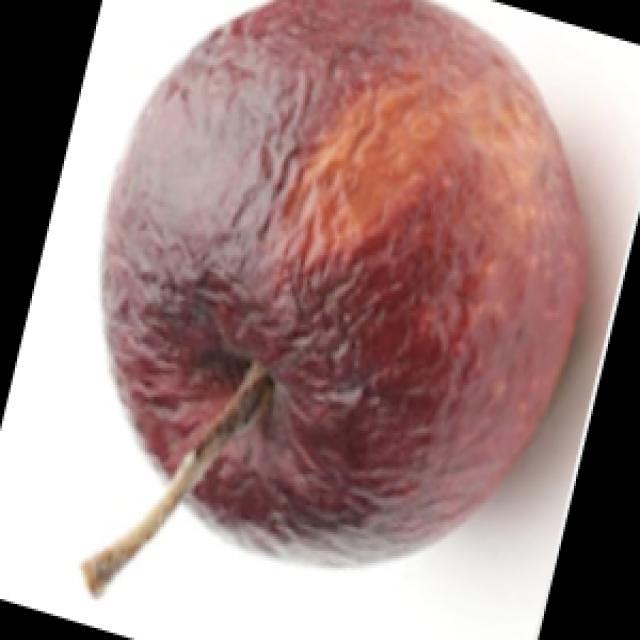Rotten: (120, 2, 583, 520)
